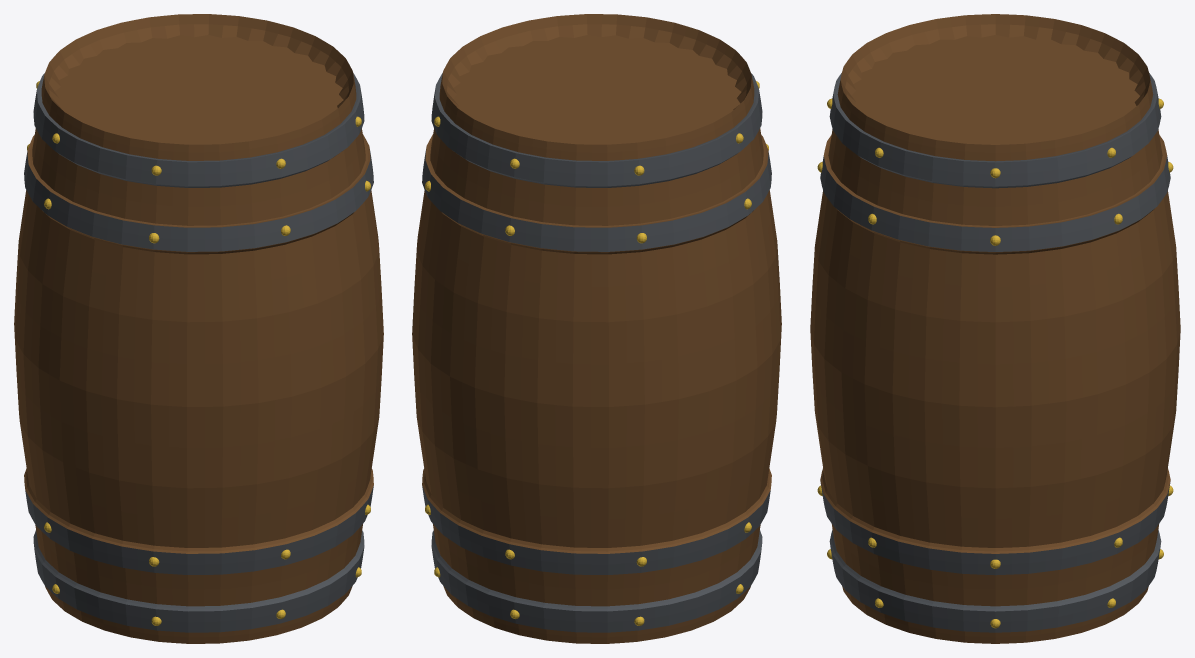
Rendered from barrel 1.fbx.
3 views of the same model, side by side, from view 1: azimuth 30°, elevation 25°; view 2: azimuth 150°, elevation 25°; view 3: azimuth 270°, elevation 25° (orthographic).
Parts seen in each view (by area): view 1: Cylinder, Sphere; view 2: Cylinder, Sphere; view 3: Cylinder, Sphere.
Boxes of the visible parts, x1,y1,x2,y2 form: Cylinder: (14,14,383,643); Sphere: (27,81,370,625); Cylinder: (412,14,781,643); Sphere: (425,81,768,625); Cylinder: (810,14,1180,643); Sphere: (817,98,1173,628).
Size of the model in its own units: 238 by 354 by 238.
